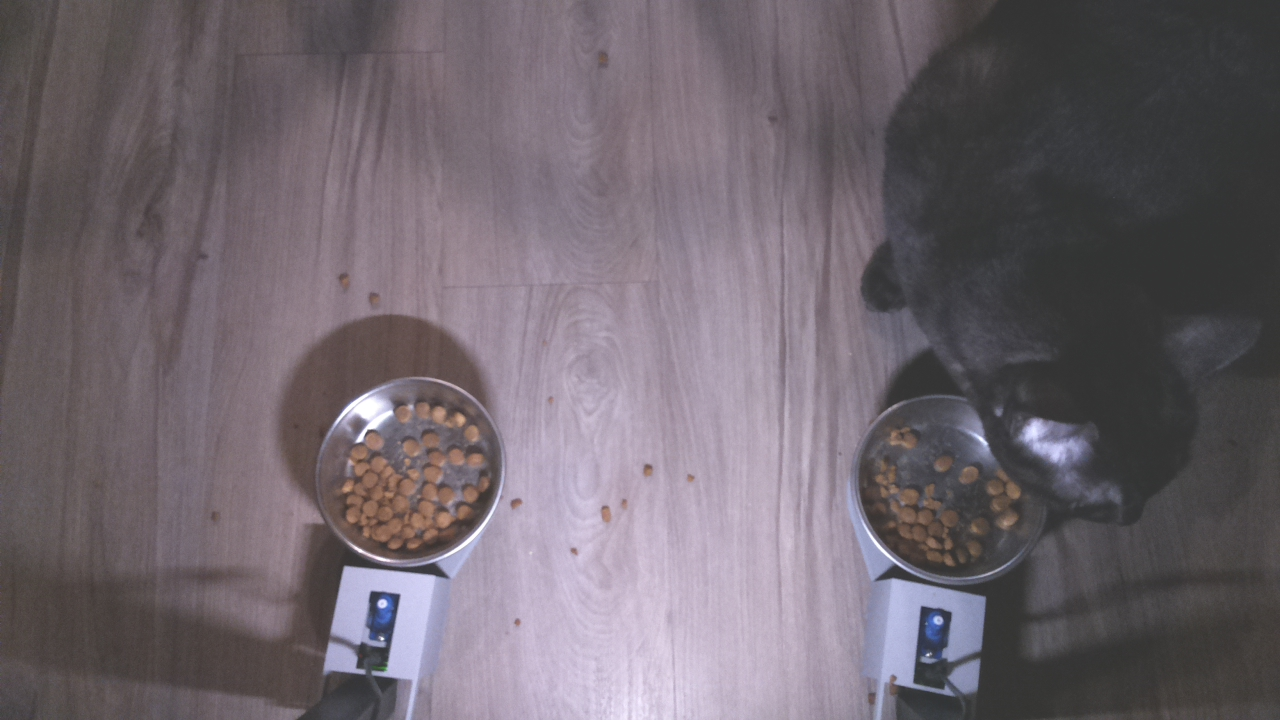open_bowl: (308, 372, 507, 569), (847, 397, 1039, 585)
